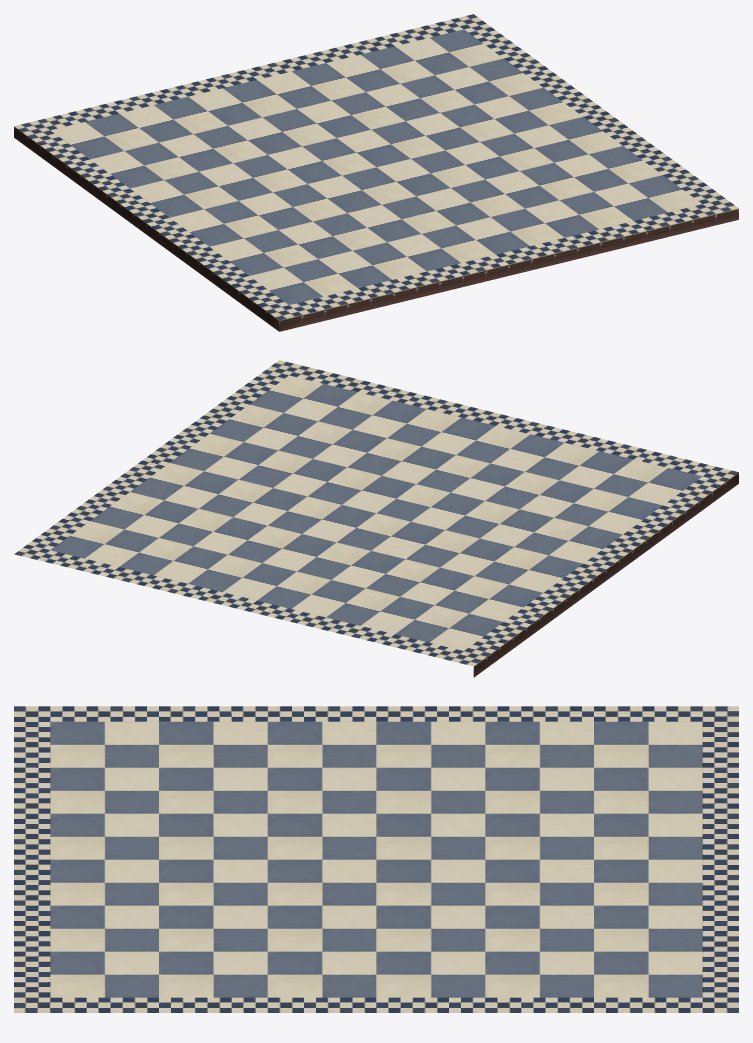
Rendered from my_wildhunt_01_tile_20x20.glb.
3 views of the same model, one above another, from view 1: azimuth 30°, elevation 25°; view 2: azimuth 150°, elevation 25°; view 3: azimuth 270°, elevation 25° (orthographic). The views are drawn at different scales.
Parts seen in each view (by area): view 1: my_wildhunt_01_tile_20x20; view 2: my_wildhunt_01_tile_20x20; view 3: my_wildhunt_01_tile_20x20.
Part boxes in pixels (x1,y1,x2,y2): my_wildhunt_01_tile_20x20: [14, 14, 738, 331]; my_wildhunt_01_tile_20x20: [14, 360, 738, 677]; my_wildhunt_01_tile_20x20: [14, 706, 738, 1012].
Bounding box in the file's own units: 0.12 × 0.00287 × 0.12.
1 material, 1 textured.
